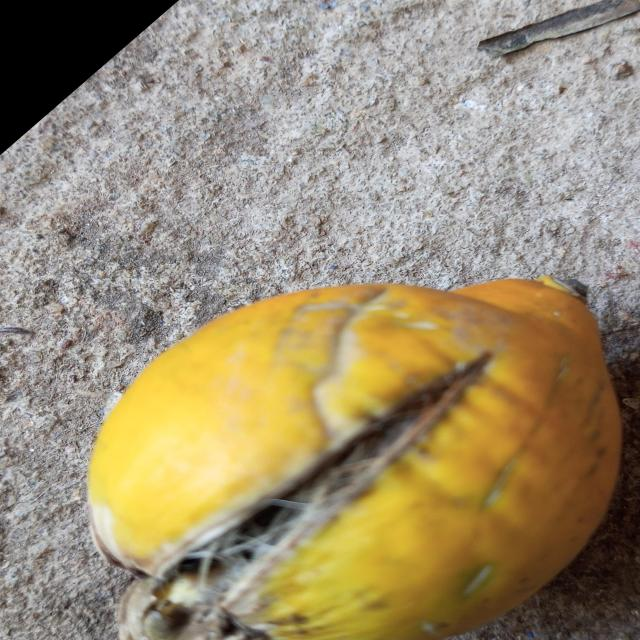damaged: (88, 278, 620, 640)
